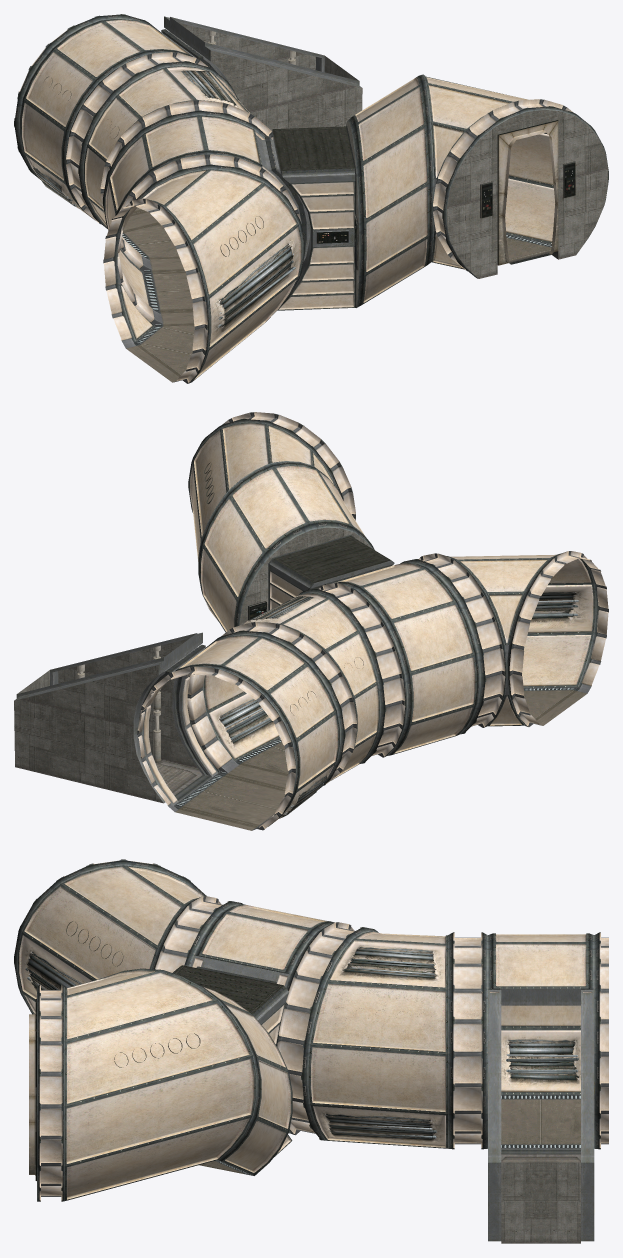
File: yt1300_r1_hall1_mesh_r1.fbx
3 renders of one model, top to bottom at view 1: azimuth 30°, elevation 25°; view 2: azimuth 150°, elevation 25°; view 3: azimuth 270°, elevation 25°, orthographic. The views are drawn at different scales.
Visible parts, largest first — view 1: mesh_node; view 2: mesh_node; view 3: mesh_node.
Part boxes in pixels (<box>): mesh_node: <box>14,14,608,383</box>; mesh_node: <box>14,412,608,830</box>; mesh_node: <box>14,859,608,1243</box>.
Size of the model in its own units: 10.47 by 4.75 by 11.18.
